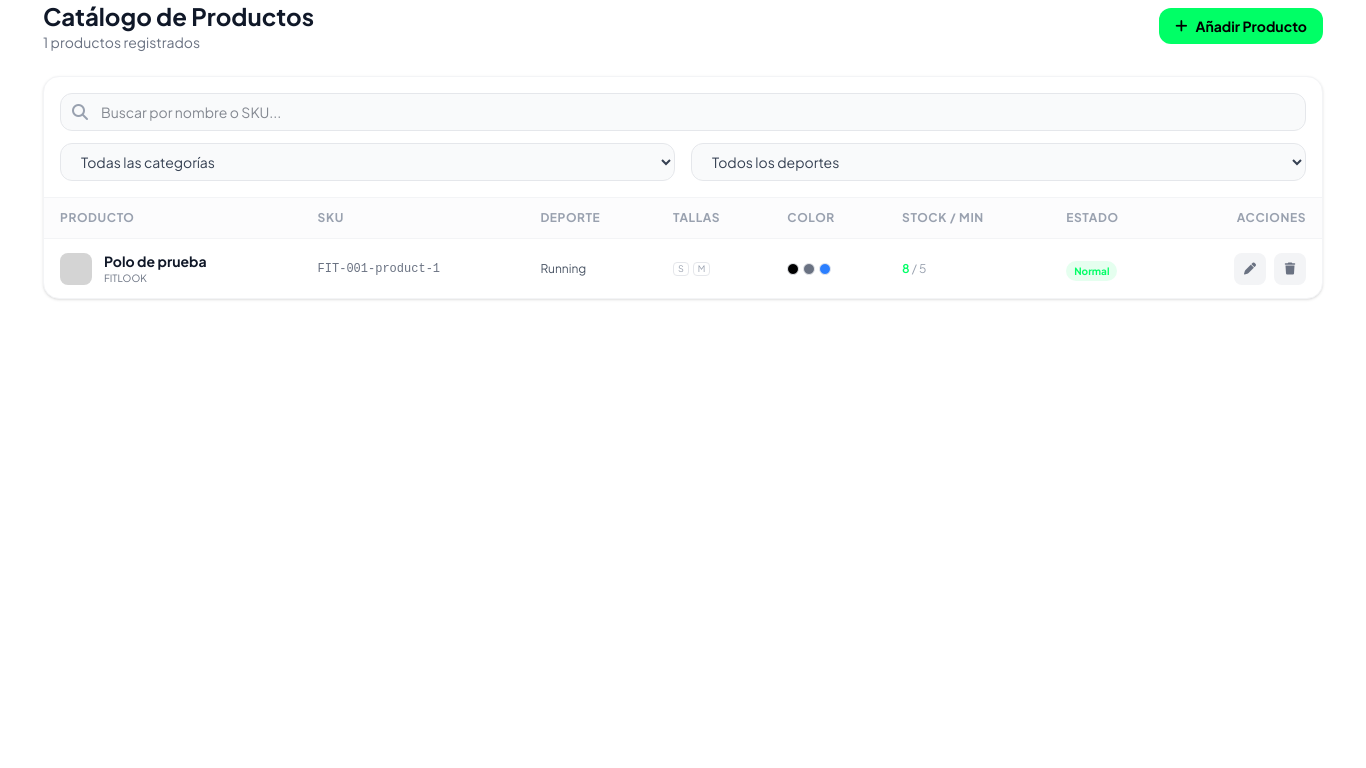
Test: inventory modal positioning › renders the add-product dialog directly under document.body
Click the button "Añadir Producto". click: (1241,26)
box: [1159,8,1323,44]
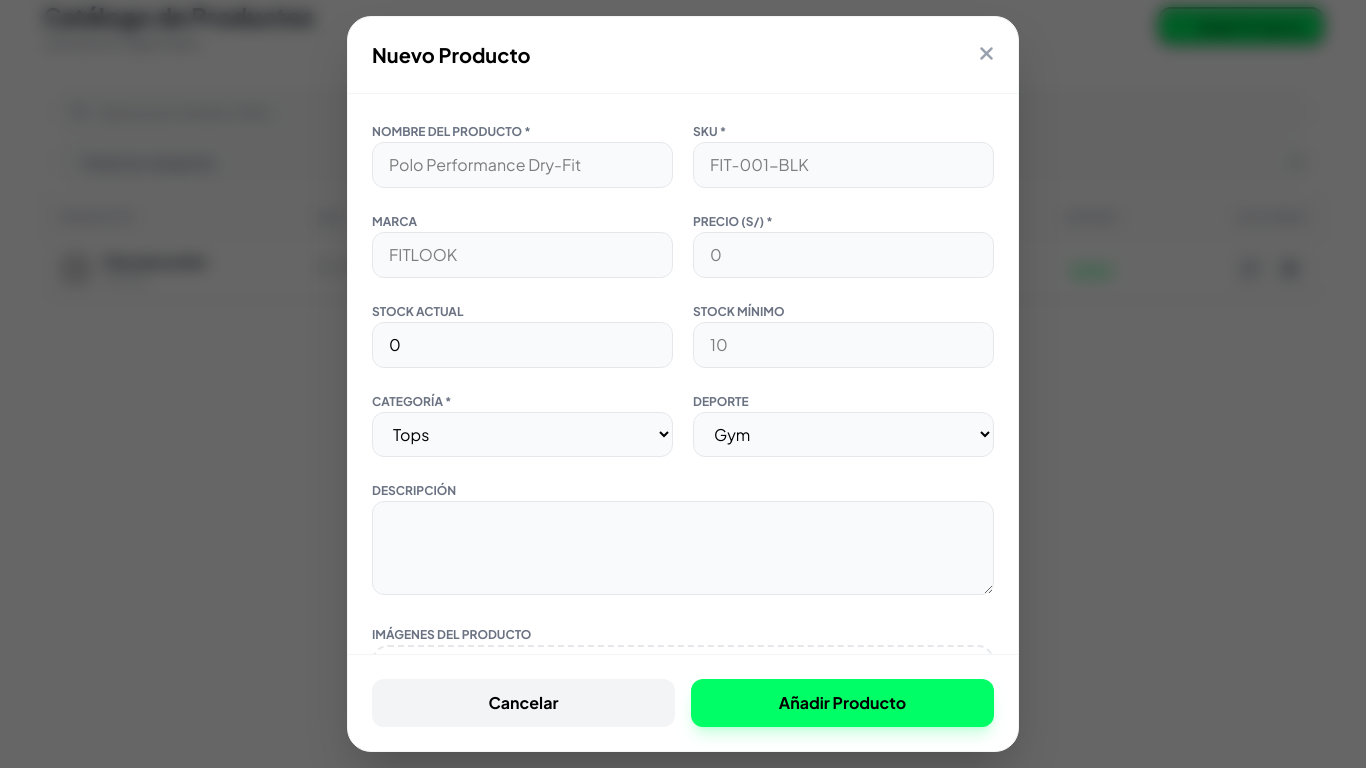
Result: the dialog "Nuevo Producto" is shown at [347,16,1019,752]
